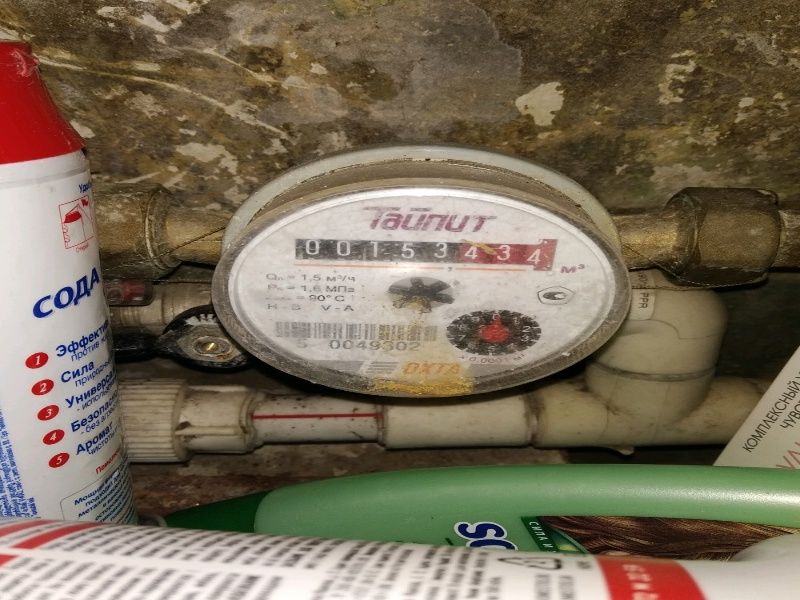meter: (293, 234, 551, 271)
